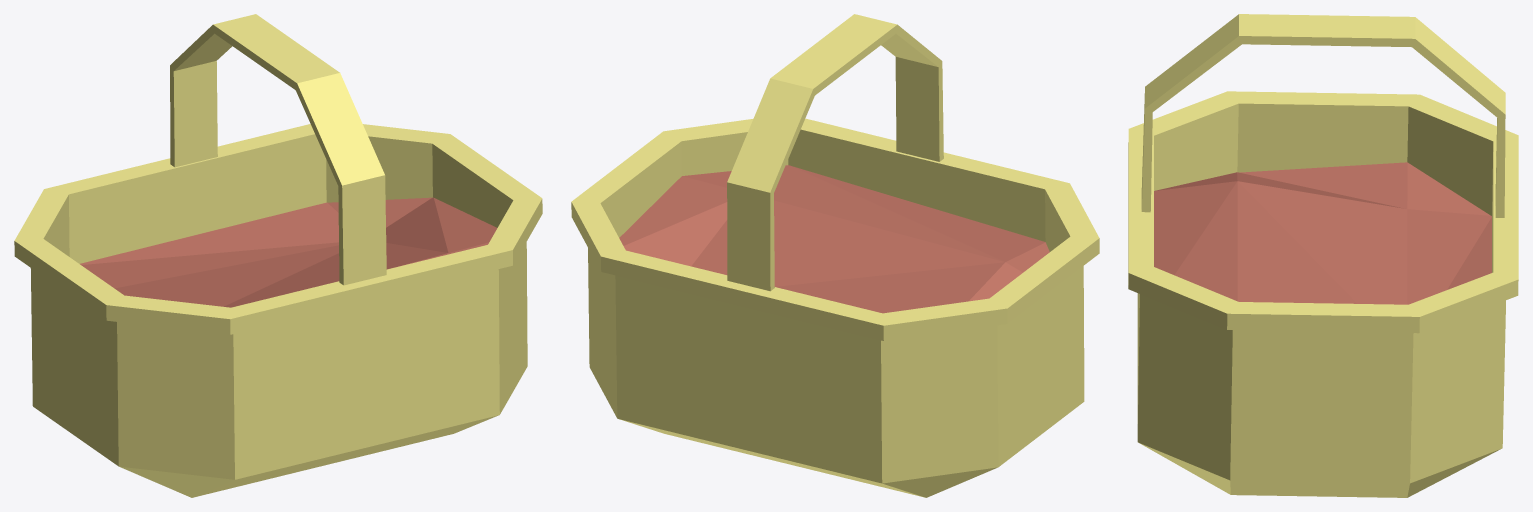
File: Basket_1.fbx
The picture shows the model from 3 angles, left to right: view 1: azimuth 30°, elevation 25°; view 2: azimuth 150°, elevation 25°; view 3: azimuth 270°, elevation 25°; orthographic projection. The views are drawn at different scales.
Parts seen in each view (by area): view 1: Basket_1; view 2: Basket_1; view 3: Basket_1.
Boxes of the visible parts, x1=… form: Basket_1: x1=14, y1=14, x2=542, y2=497; Basket_1: x1=571, y1=14, x2=1099, y2=497; Basket_1: x1=1128, y1=14, x2=1518, y2=497.
Bounding box in the file's own units: 42.35 × 31.34 × 36.
